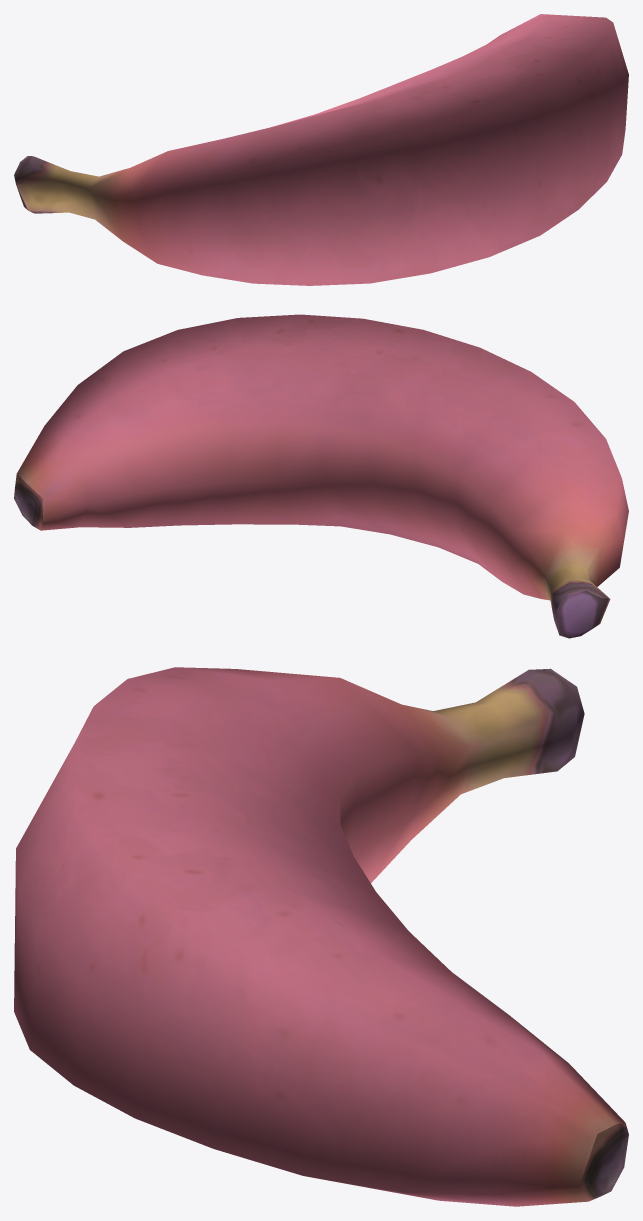
3 renders of one model, top to bottom at view 1: azimuth 30°, elevation 25°; view 2: azimuth 150°, elevation 25°; view 3: azimuth 270°, elevation 25°, orthographic. The views are drawn at different scales.
Visible parts, largest first — view 1: mamufruit; view 2: mamufruit; view 3: mamufruit.
Boxes of the visible parts, box(x1,y1,x2,y2) form: mamufruit: box(14, 14, 628, 285); mamufruit: box(14, 314, 628, 638); mamufruit: box(14, 667, 628, 1206).
Size of the model in its own units: 3.88 by 1.05 by 2.15.
